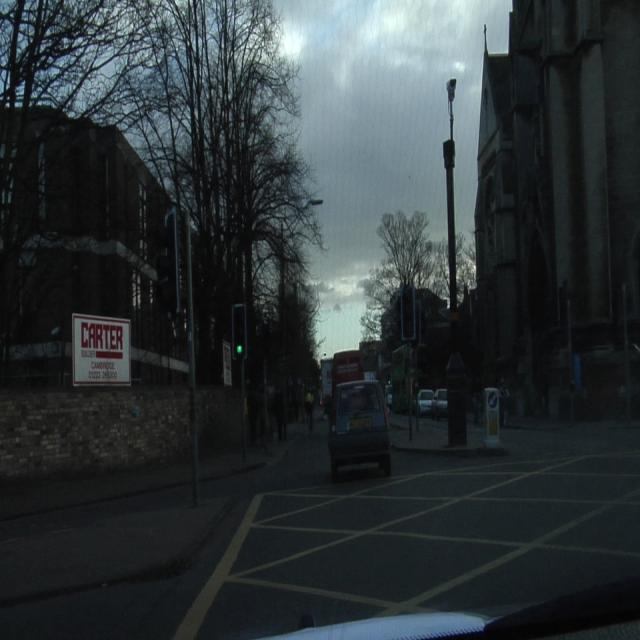Building: (477, 0, 639, 414)
Car: (329, 381, 389, 480), (419, 389, 435, 415), (434, 390, 447, 419)
Road: (3, 424, 639, 627)
Tree: (166, 0, 318, 385), (370, 213, 447, 351)
